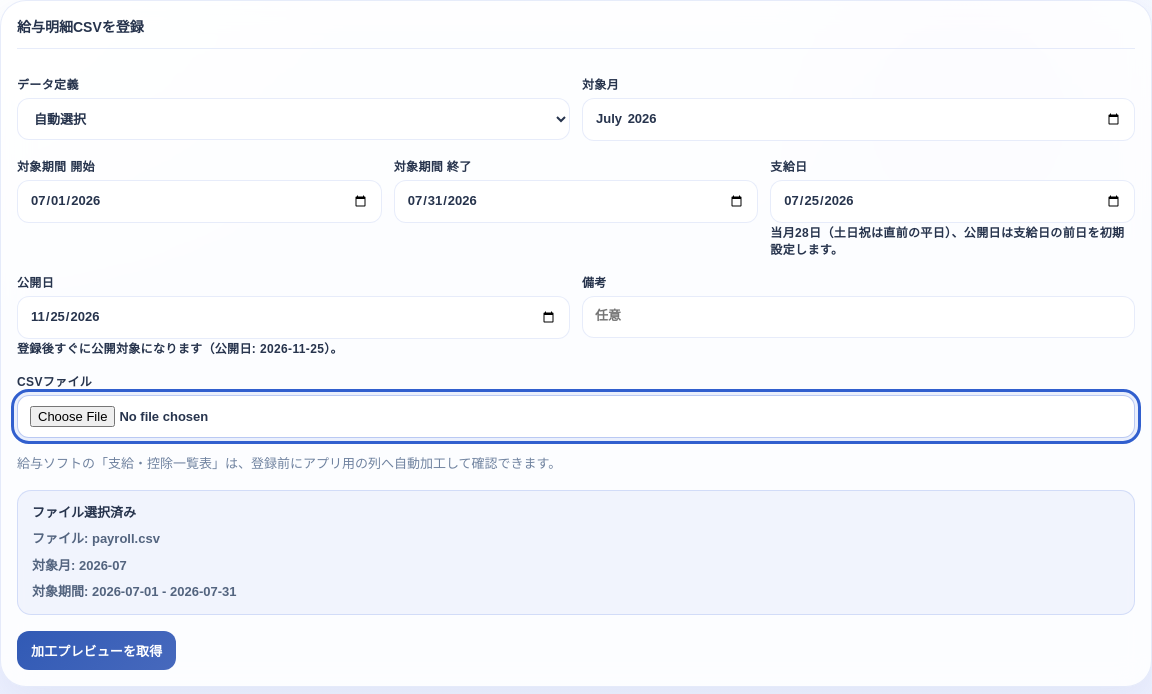
Test case: PayrollRegisterPanel › 条件を変えた後で到着した古いプレビューは登録に使えない
Earlier steps of the test are not shown.
Click the button "加工プレビューを取得".
click(97, 650)  # box 17,631 -> 176,670
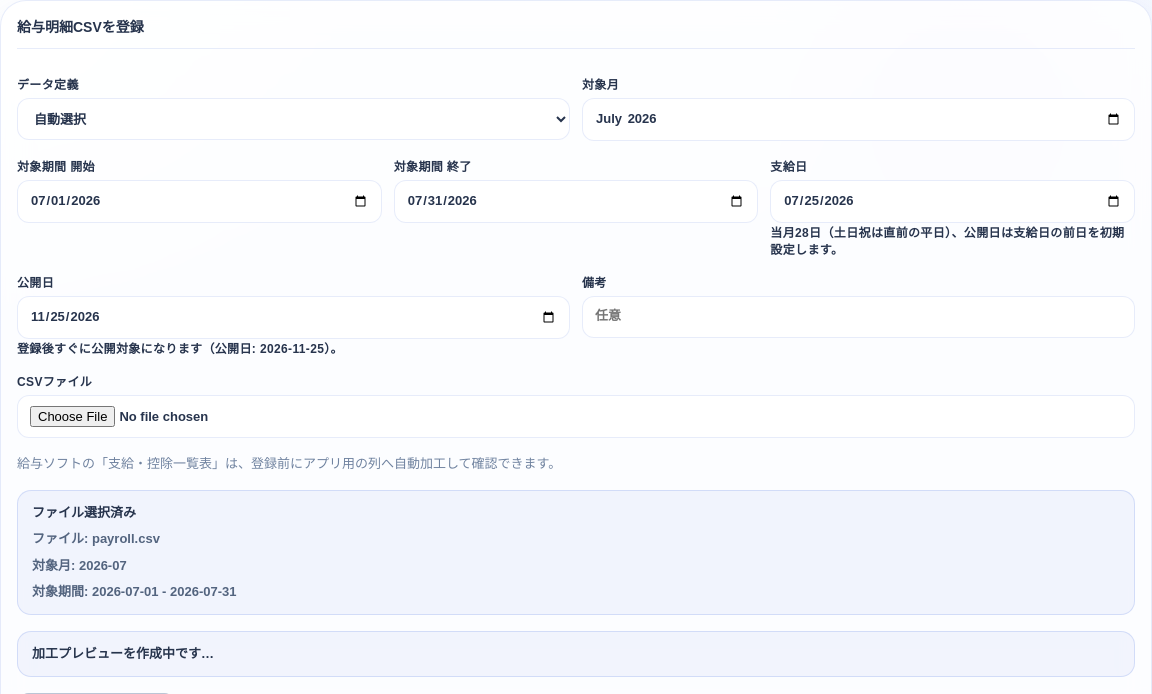
Type "変更" into the field labelled "備考".
click(858, 317); type("変更")  # box 582,296 -> 1135,338
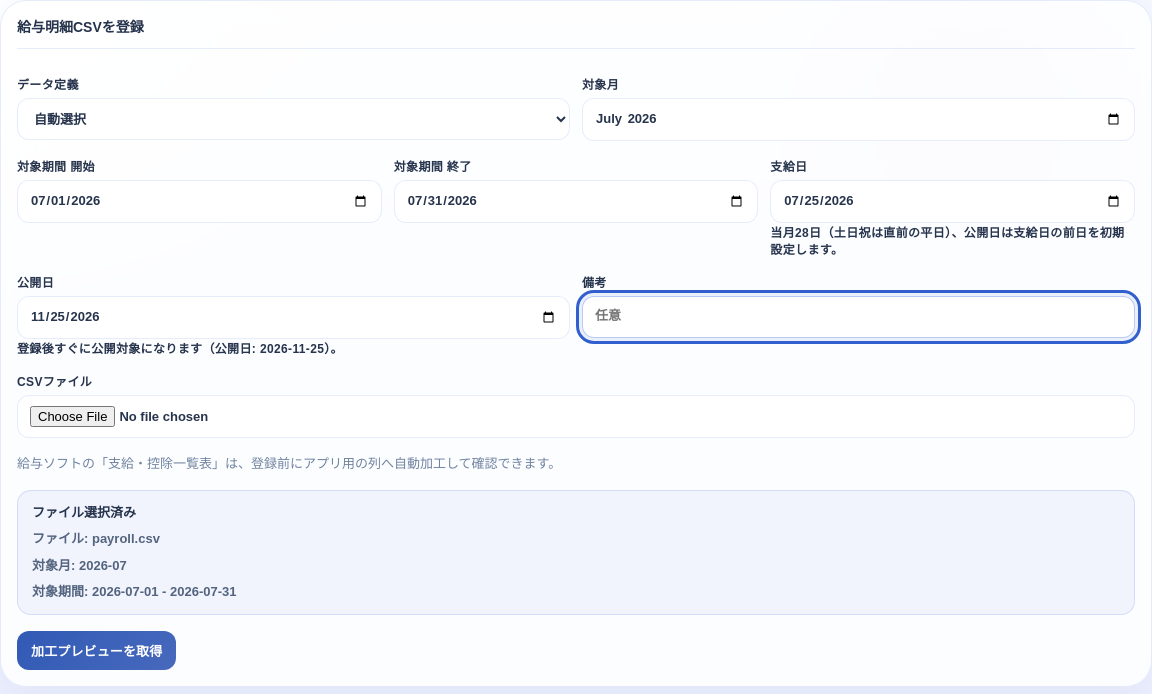
Expected: the text "加工プレビューを作成中です…" is gone
